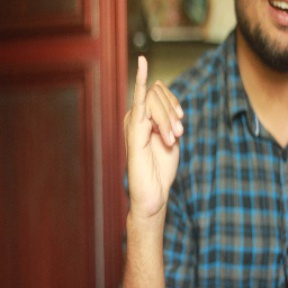I: (119, 55, 188, 215)
